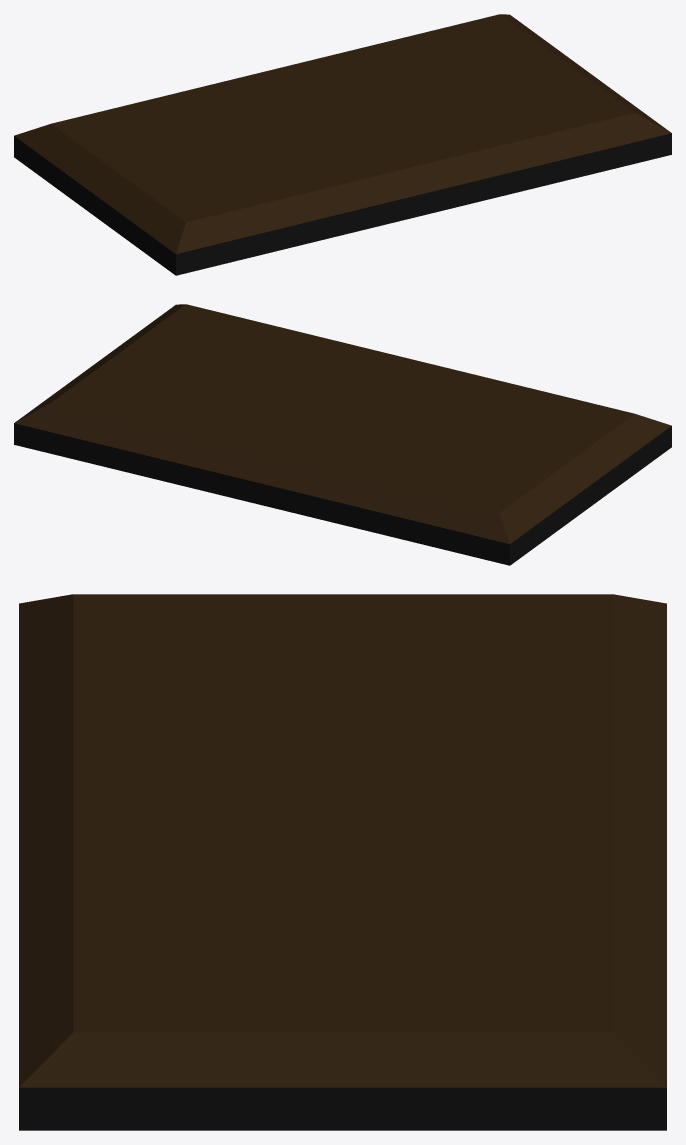
File: Chest_Lid.fbx
3 renders of one model, top to bottom at view 1: azimuth 30°, elevation 25°; view 2: azimuth 150°, elevation 25°; view 3: azimuth 270°, elevation 25°, orthographic. The views are drawn at different scales.
Parts seen in each view (by area): view 1: Cube.001; view 2: Cube.001; view 3: Cube.001.
Boxes of the visible parts, x1,y1,x2,y2 form: Cube.001: (14, 14, 671, 275); Cube.001: (14, 304, 671, 565); Cube.001: (19, 594, 666, 1130).
Size of the model in its own units: 157 by 11.42 by 88.81.
